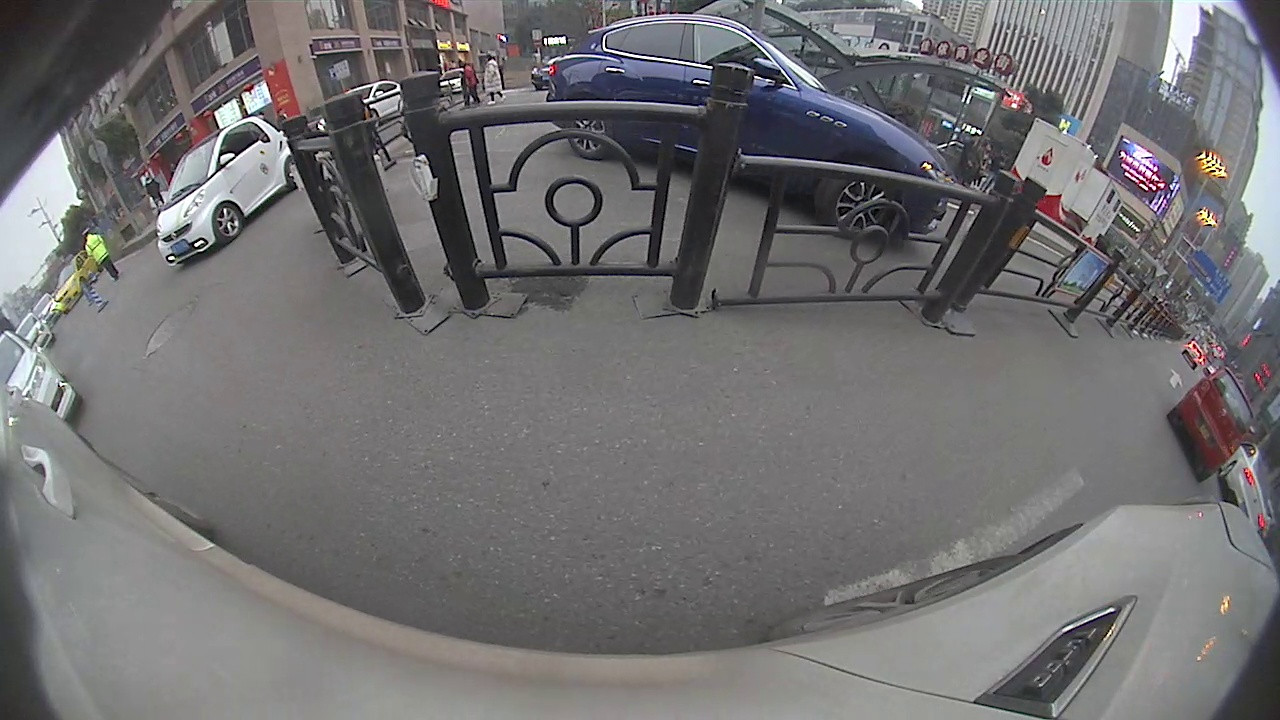car: (542, 14, 952, 243), (154, 116, 308, 269), (1166, 364, 1253, 483)
front: (818, 161, 896, 240), (215, 202, 242, 241)
person: (79, 230, 118, 283), (481, 59, 503, 104), (460, 66, 480, 104)
rear: (566, 114, 614, 160), (1217, 462, 1236, 480)
